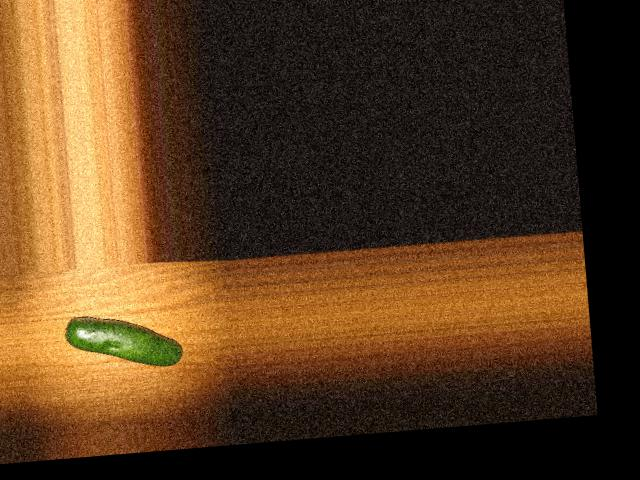cucumber: (65, 308, 184, 373)
